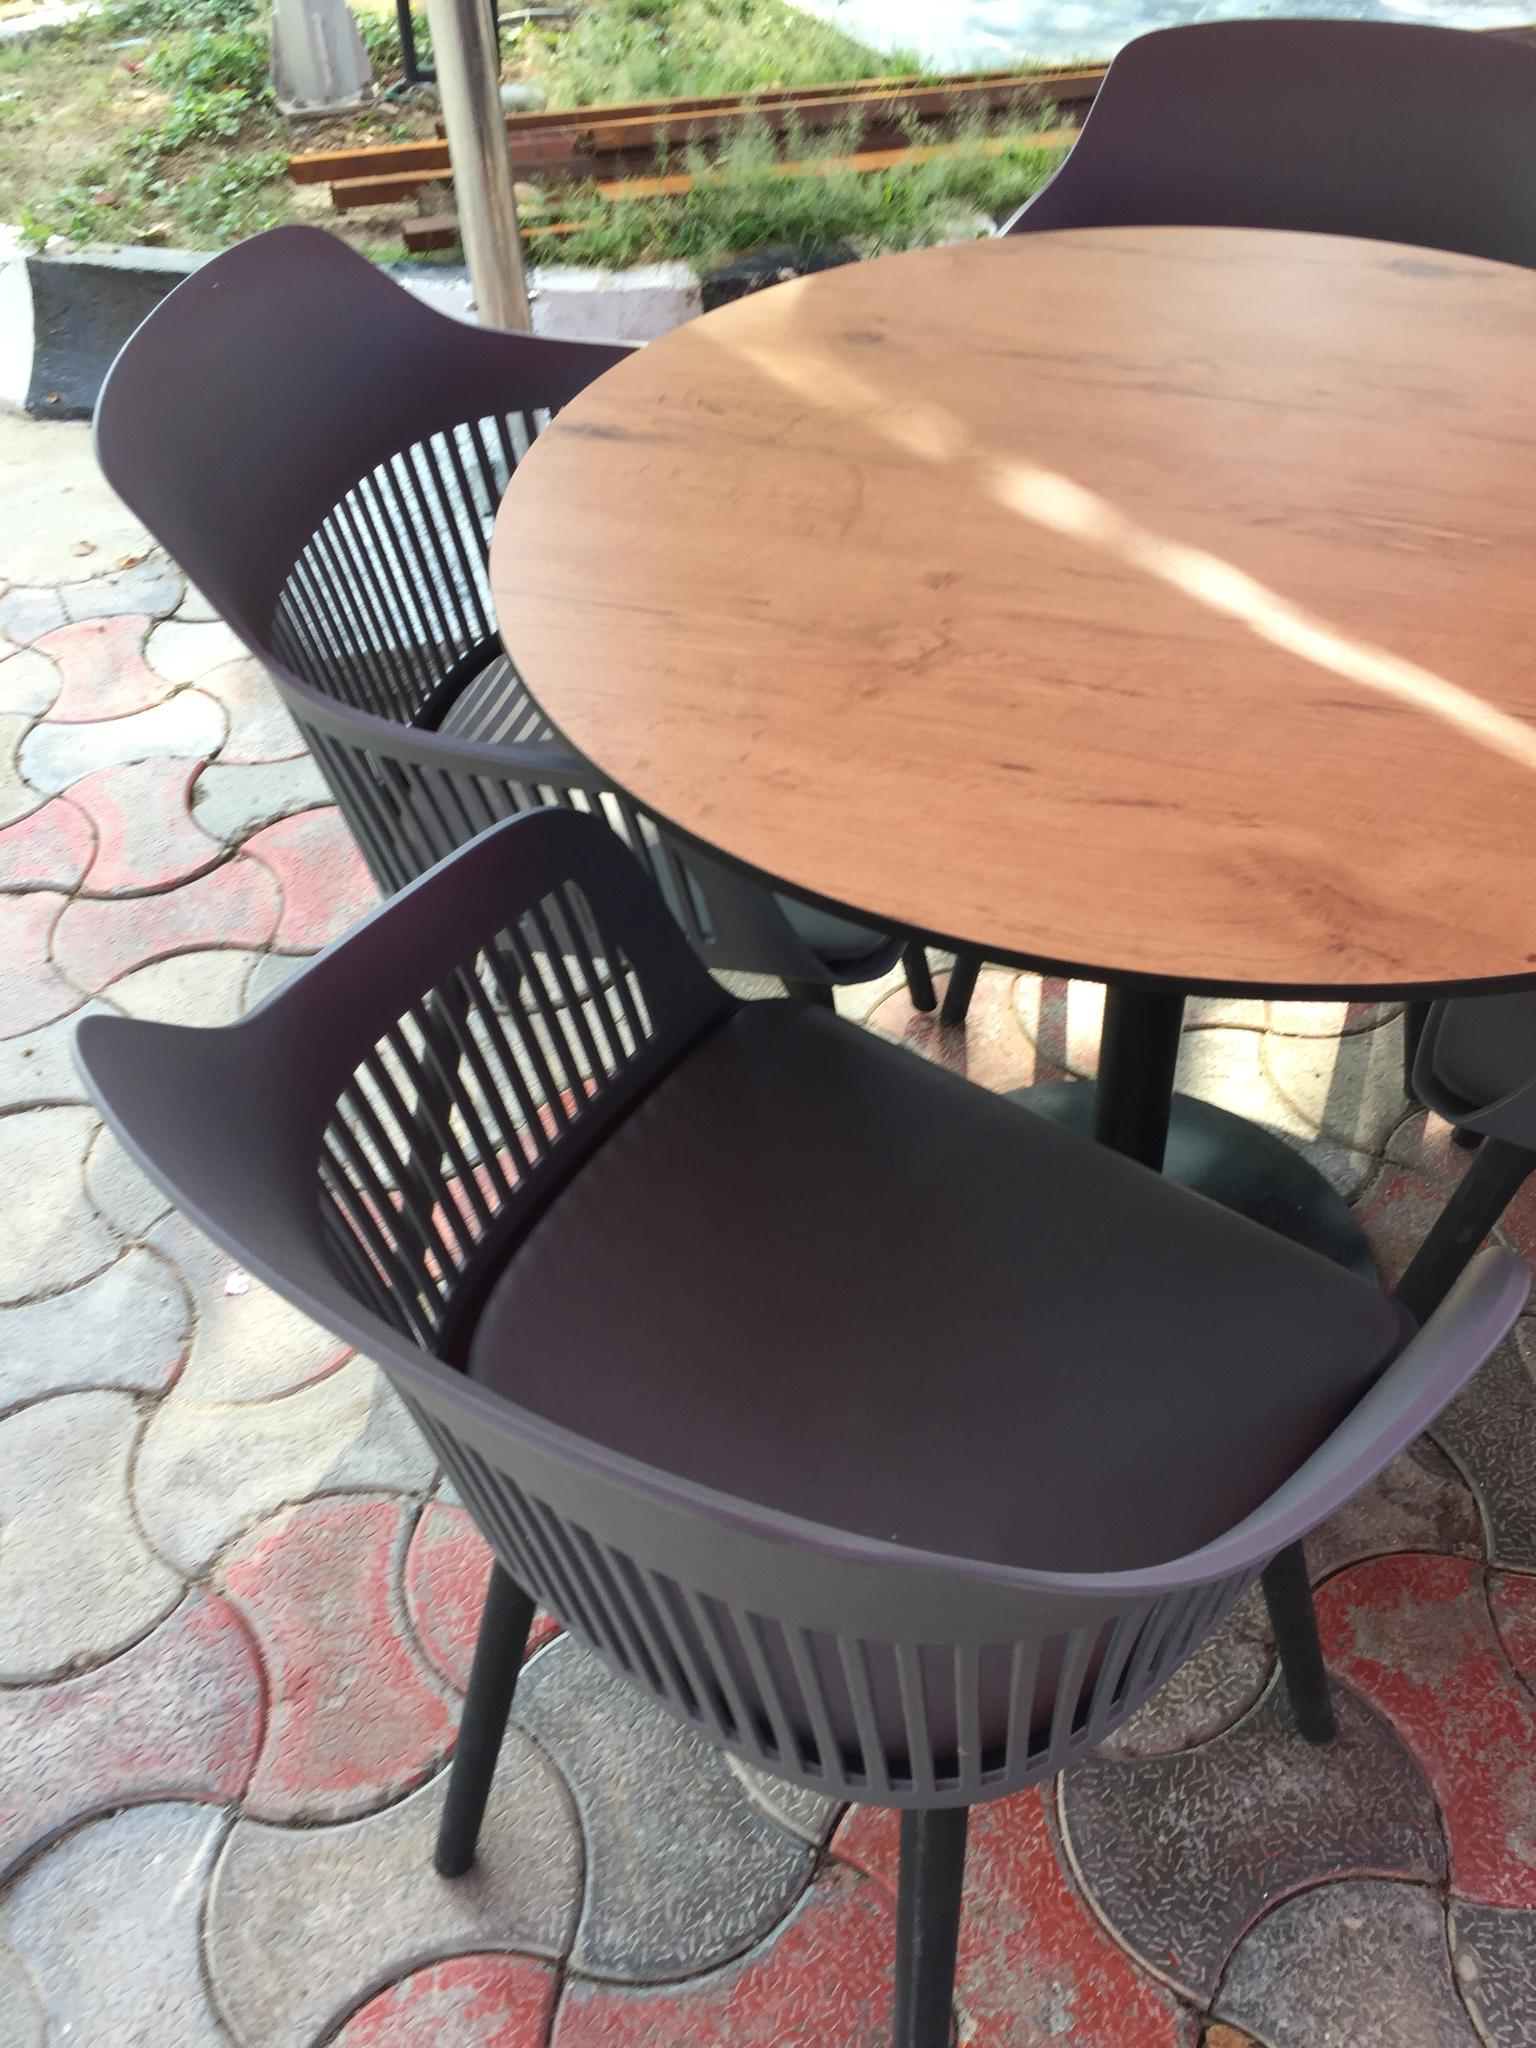chair: (71, 805, 1533, 2045), (90, 231, 958, 1001), (954, 13, 1528, 739)
